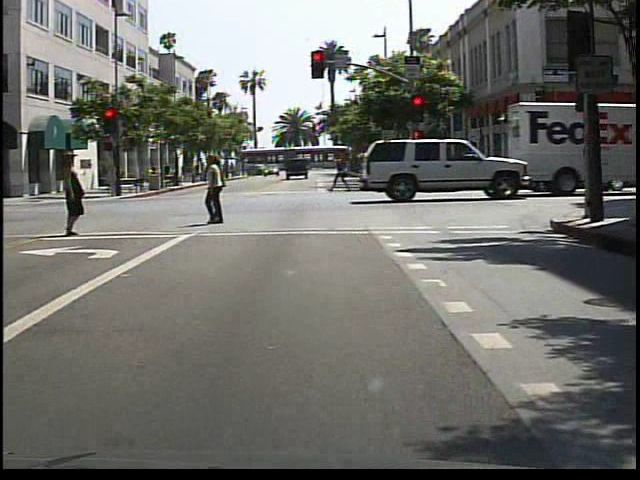person: (56, 147, 99, 239), (199, 153, 237, 227), (332, 150, 355, 193), (163, 161, 175, 185), (2, 151, 5, 241)
